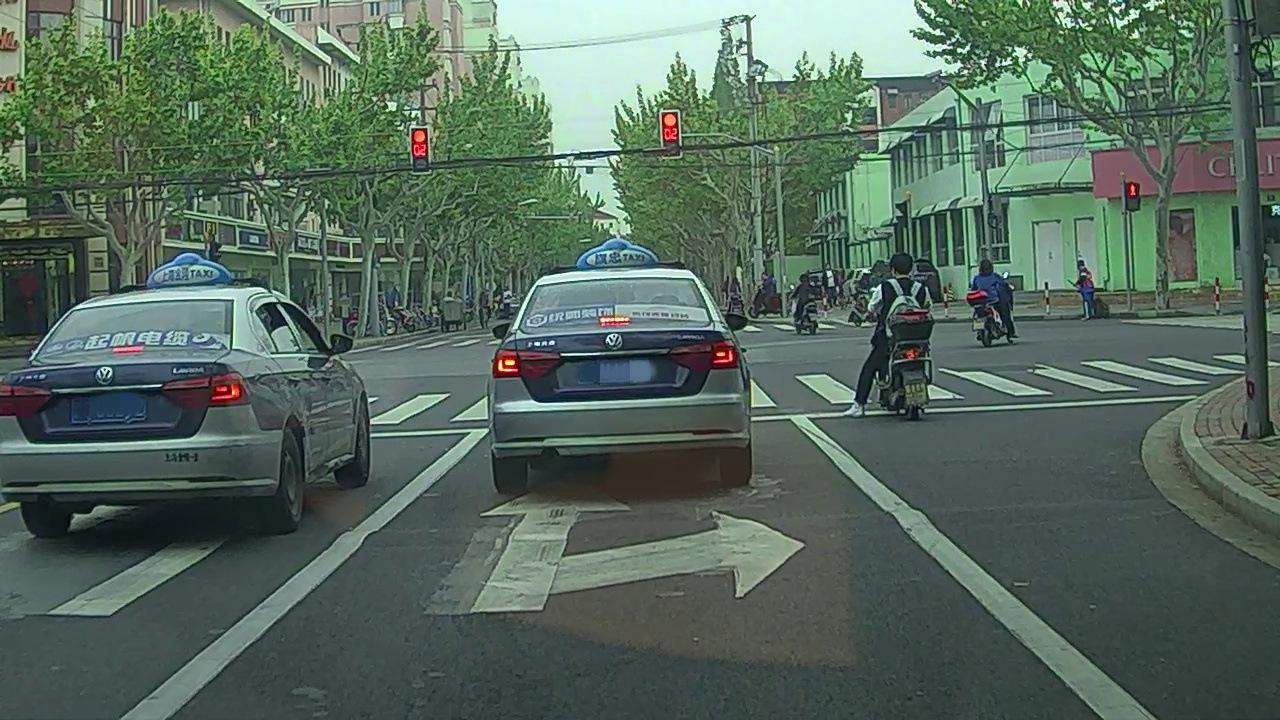traffic_light: (661, 111, 681, 156), (411, 126, 430, 173)
